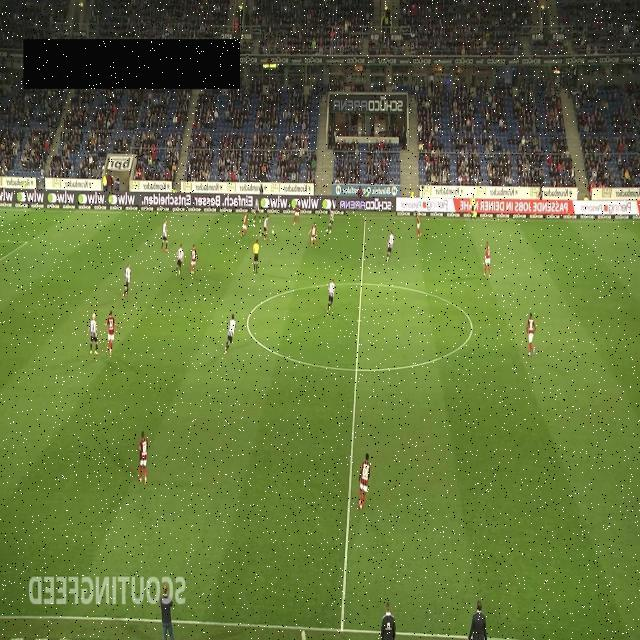Ball: (271, 228, 275, 236)
Referee: (252, 237, 260, 274), (470, 193, 476, 219)
TEAM 1: (103, 309, 121, 356), (358, 453, 370, 511), (138, 430, 148, 486), (526, 312, 536, 356), (484, 240, 491, 278), (190, 243, 198, 276), (308, 222, 318, 248), (240, 212, 248, 238), (414, 211, 422, 237), (293, 202, 300, 226)
TEAM 2: (224, 313, 236, 355), (88, 312, 99, 356), (122, 261, 132, 299), (326, 276, 336, 314), (160, 219, 169, 252), (386, 229, 394, 263), (176, 243, 184, 277), (326, 206, 334, 234), (252, 197, 260, 222), (262, 213, 269, 240)
